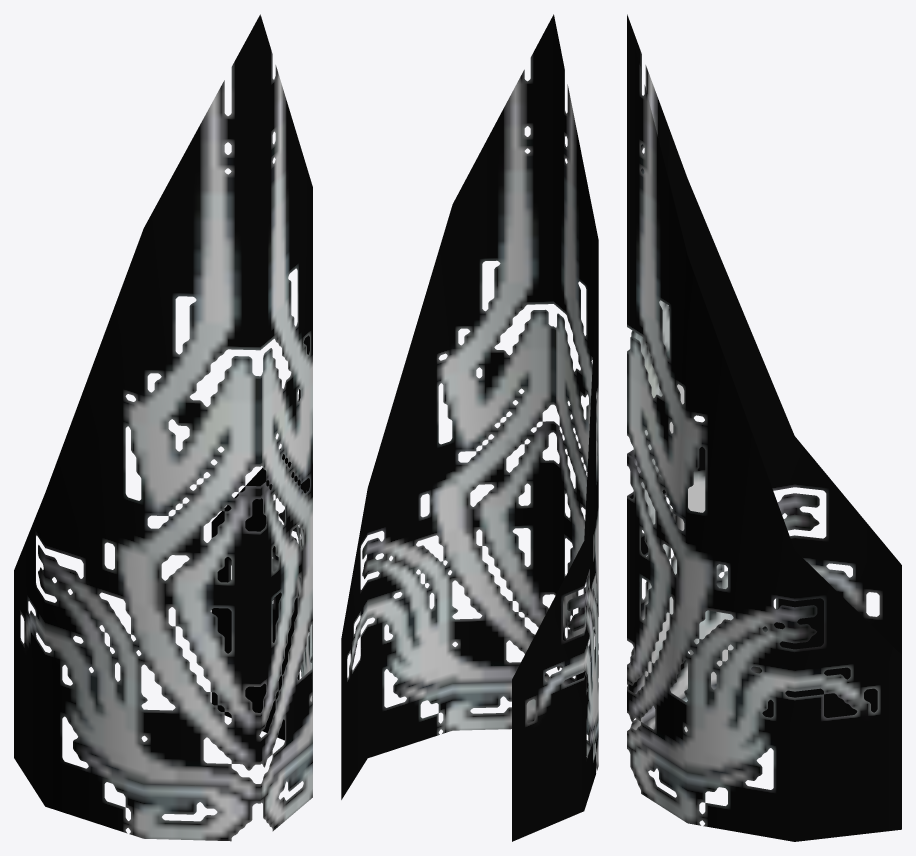
The picture shows the model from 3 angles, left to right: view 1: azimuth 30°, elevation 25°; view 2: azimuth 150°, elevation 25°; view 3: azimuth 270°, elevation 25°; orthographic projection. The views are drawn at different scales.
Visible parts, largest first — view 1: gs_v1; view 2: gs_v1; view 3: gs_v1.
Part boxes in pixels (x1=…): gs_v1: x1=14, y1=14, x2=312, y2=841; gs_v1: x1=341, y1=14, x2=598, y2=841; gs_v1: x1=627, y1=14, x2=901, y2=841.
Bounding box in the file's own units: 34.66 × 35.28 × 109.
